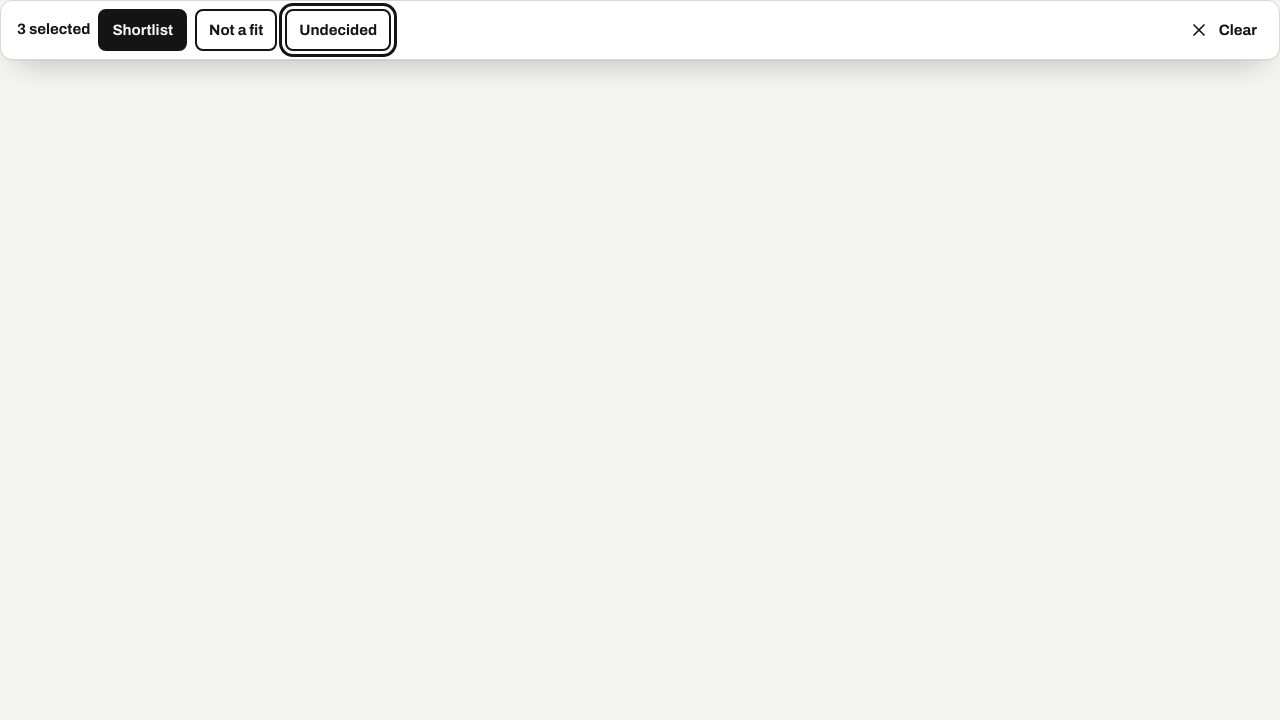
Test: BulkBar › looks busy while saving, keeps focus, ignores a second click and keeps the selection when the API refuses
Click the button "Undecided". click: (338, 30)
box: [285, 9, 391, 51]
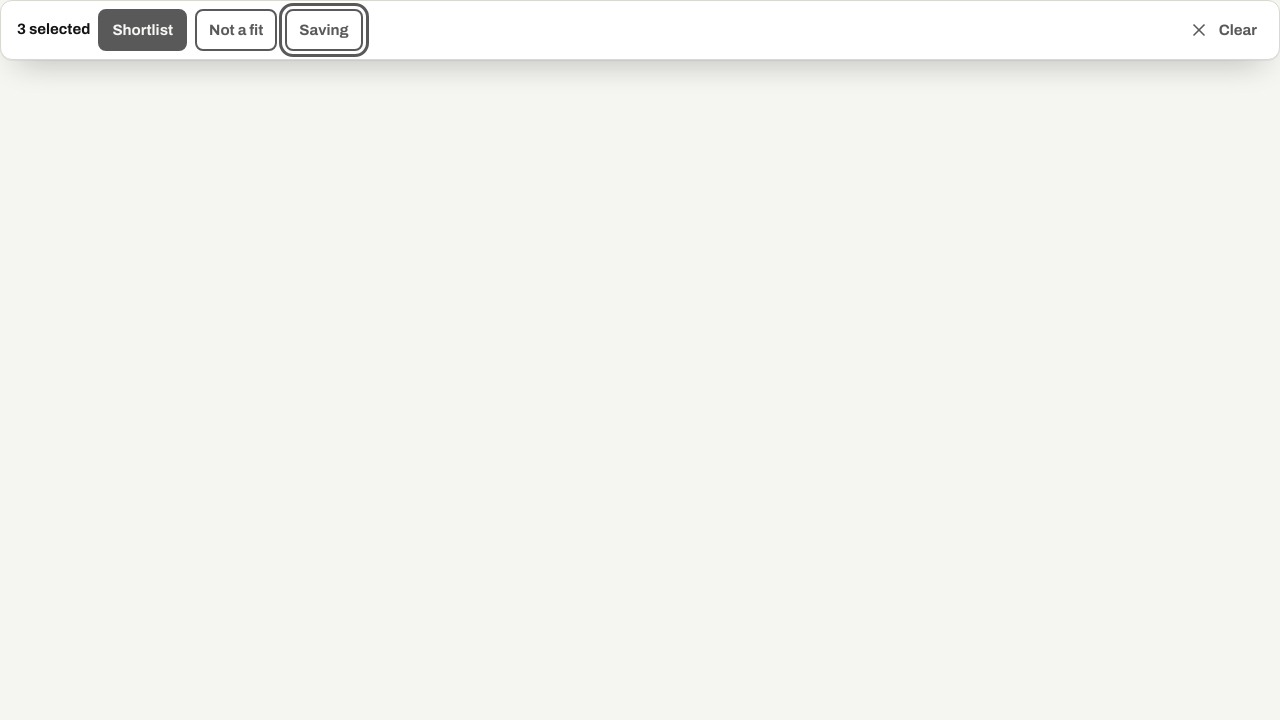
expect the button named "Undecided" reads "Saving": met, box [285, 9, 362, 51]
Click the button "Shortlist". click: (143, 30)
box: [98, 9, 187, 51]
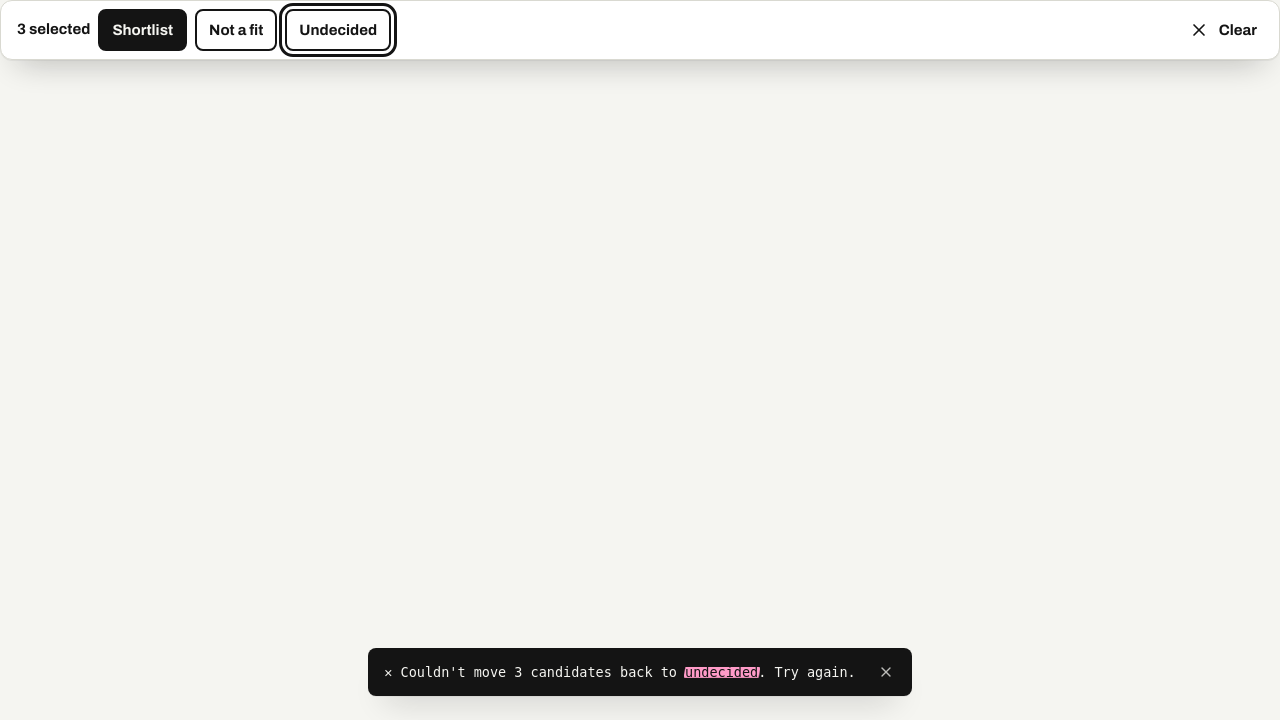
expect the text "✕ Couldn't move 3 candidates back to undecided. Try again." is shown: met, box [384, 663, 856, 680]
